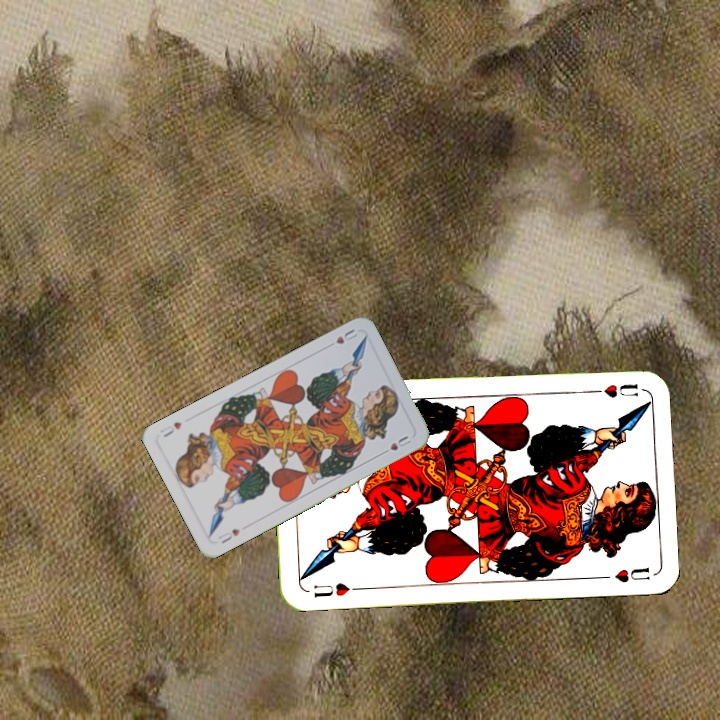HU: (310, 579, 363, 600), (585, 380, 640, 400), (332, 325, 360, 347), (214, 525, 243, 546)
